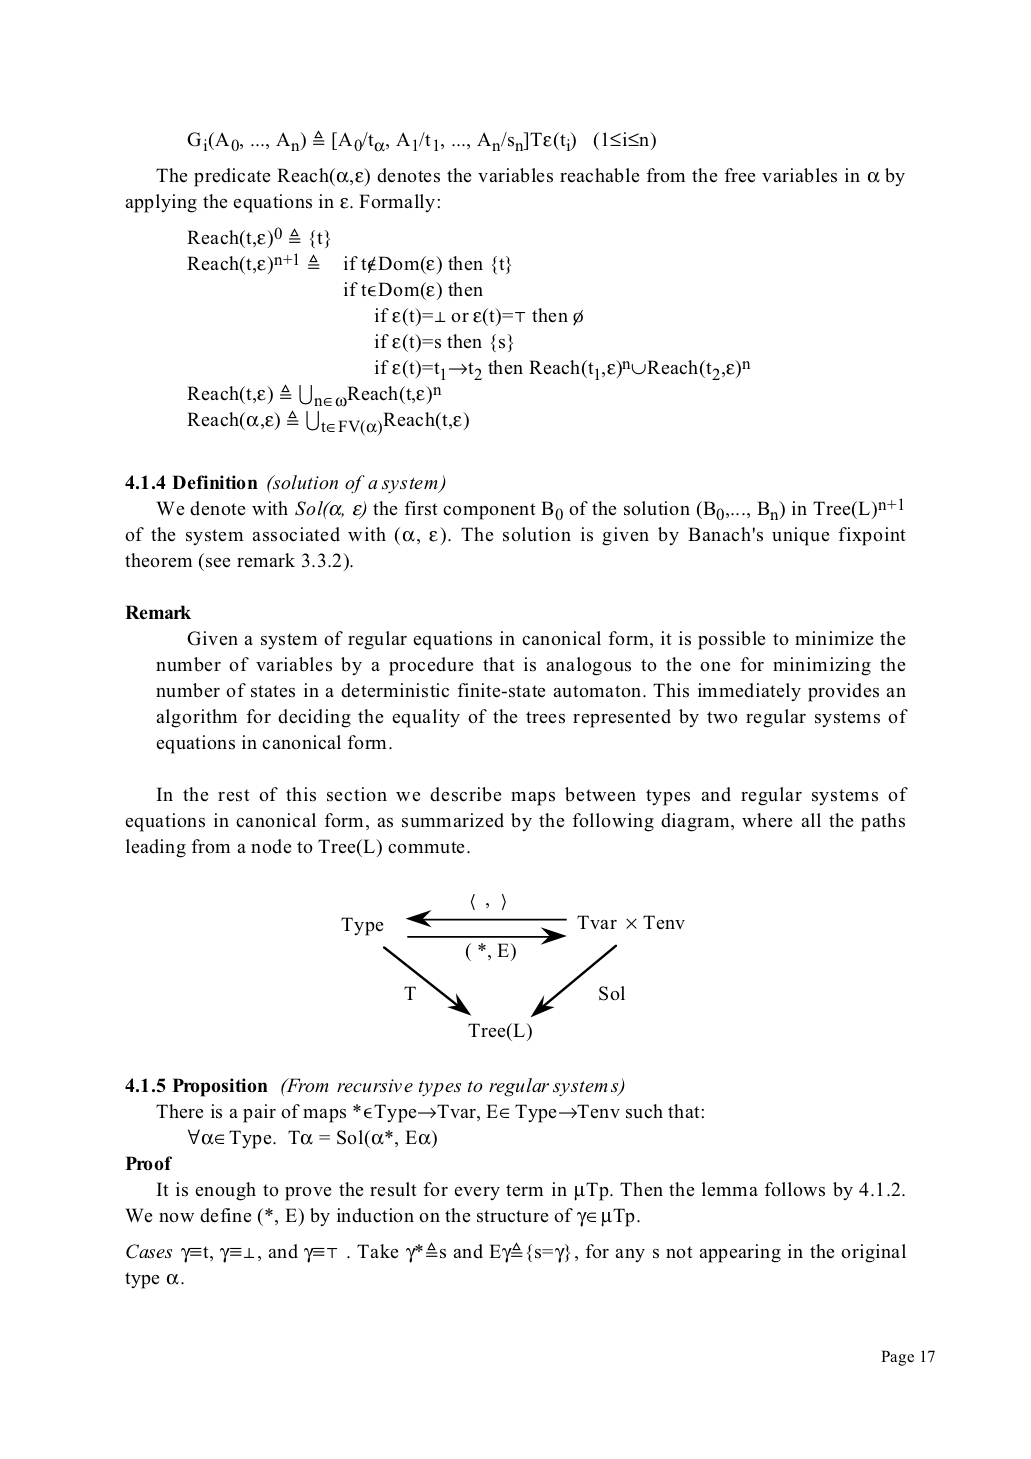figure: (341, 893, 684, 1040)
formula: (187, 129, 655, 152)
